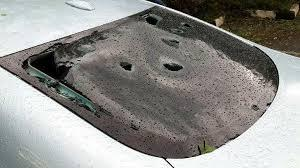Rear-windscreen-Damage: (16, 15, 276, 156)
